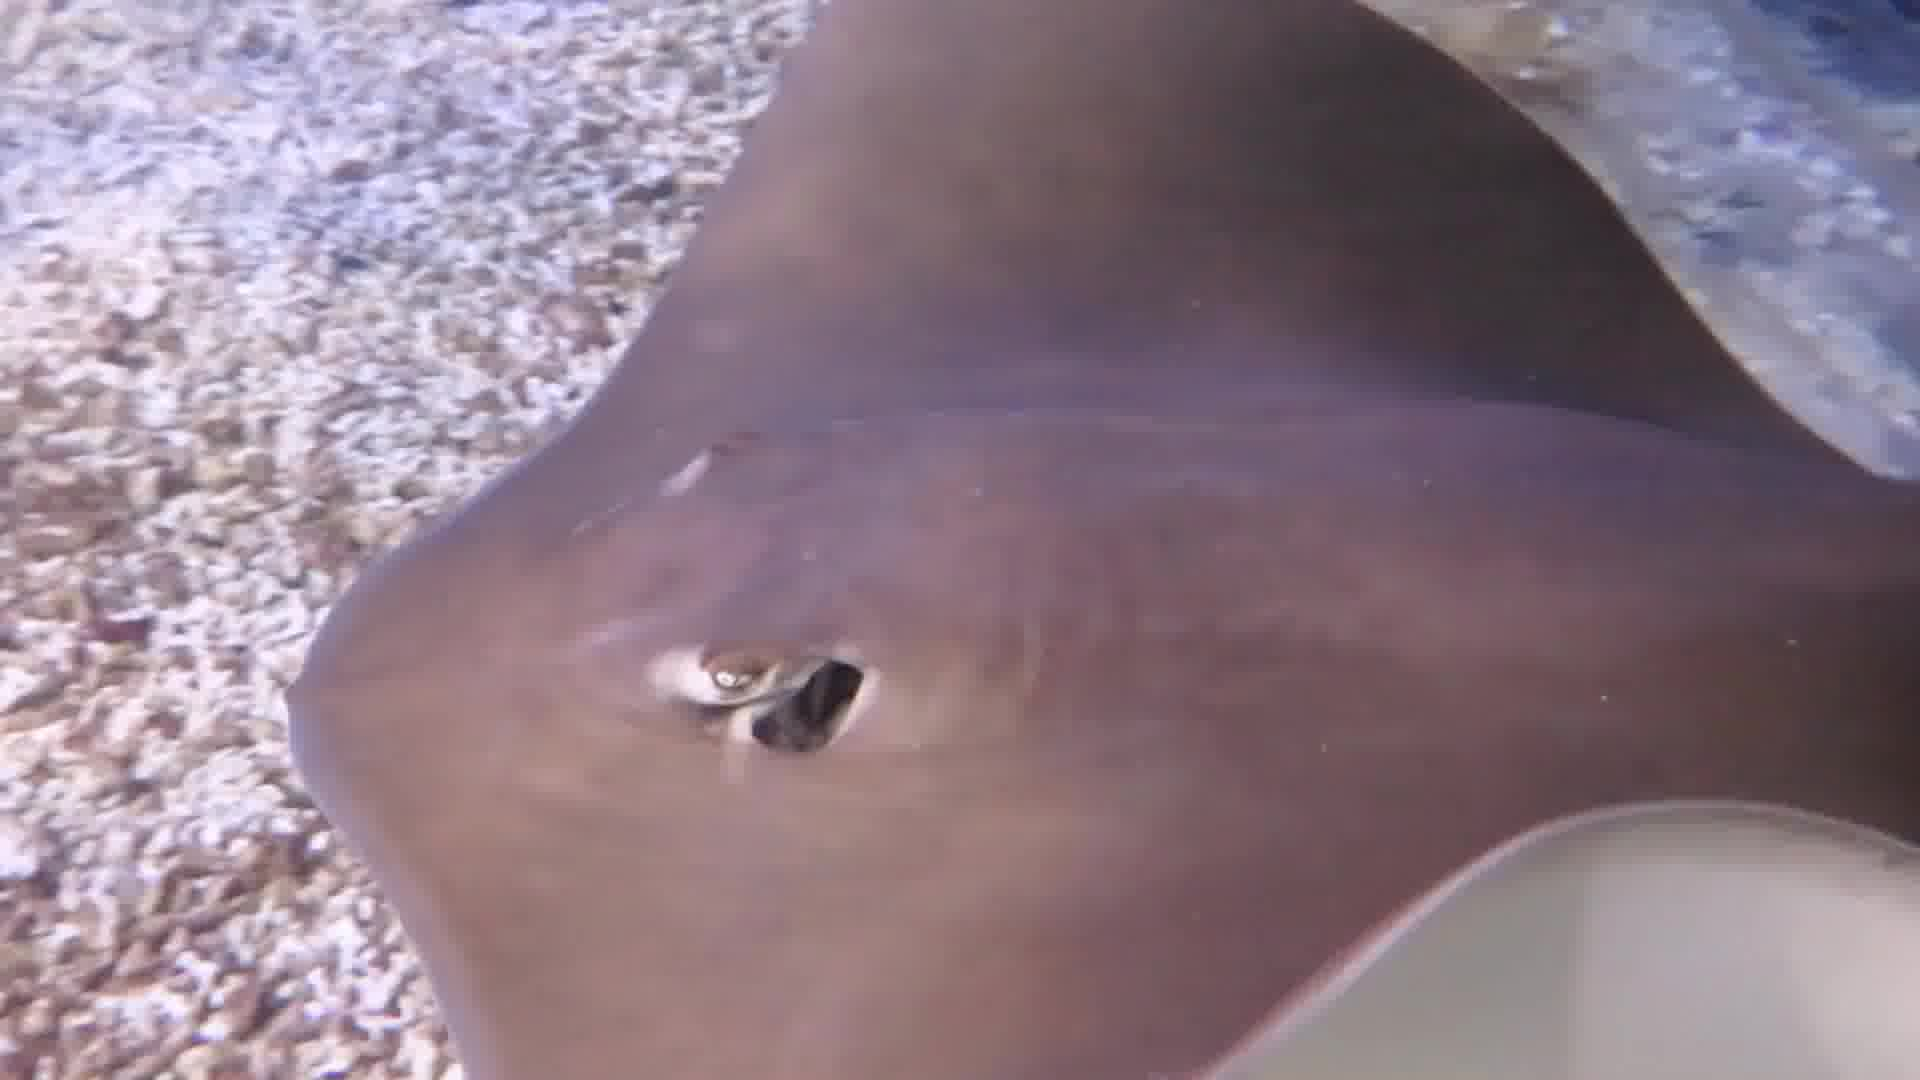Dasyatis akajei: (285, 1, 1920, 1080)
